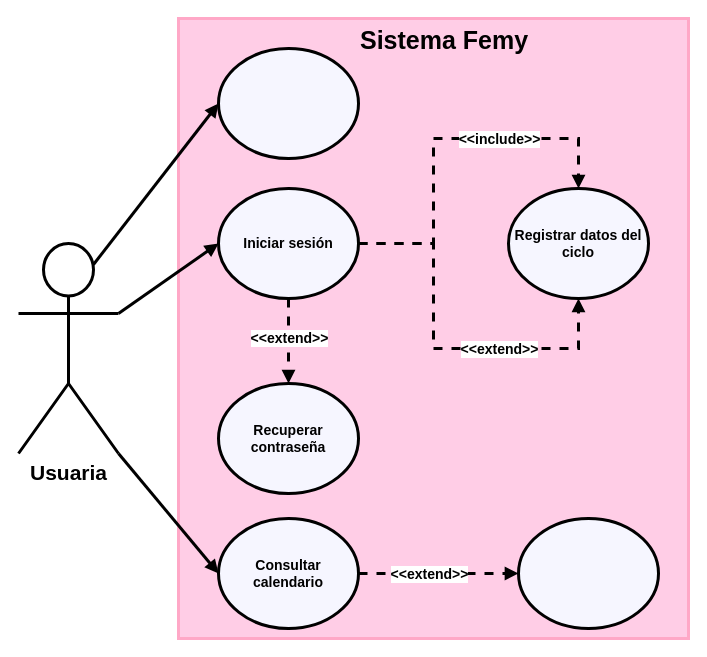
Image size: 707x657. Some labels were removed from this diagram. Each missing label, with the centre of its shape:
"Editar datos del ciclo" belongs at point 588,573.
"Registrarse" belongs at point 288,103.
